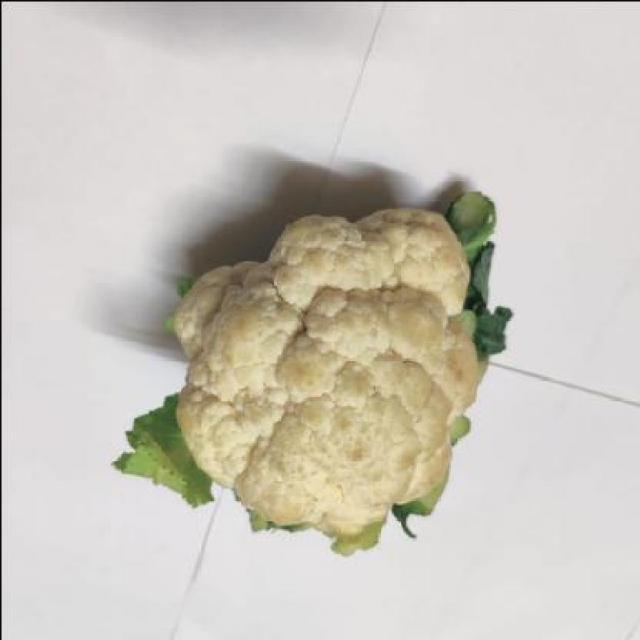Cauliflower: (109, 162, 534, 570)
